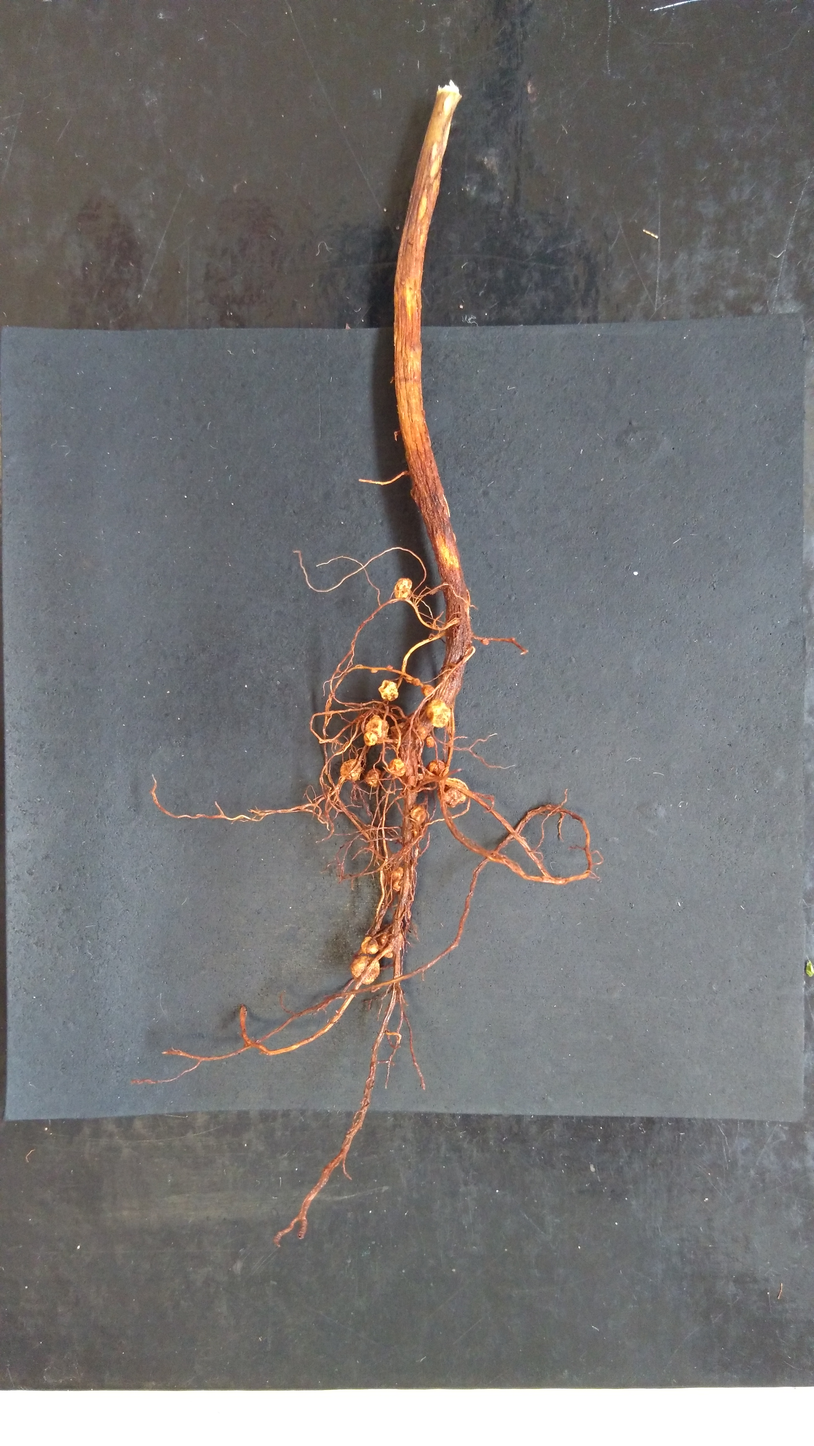nodule: (349, 954, 382, 987), (441, 776, 471, 810), (424, 699, 453, 730), (379, 930, 405, 958), (364, 714, 390, 739), (511, 996, 521, 1061), (338, 757, 363, 782), (377, 679, 400, 702), (393, 576, 413, 600), (386, 757, 407, 778), (390, 864, 405, 893), (408, 803, 427, 824), (361, 935, 380, 956), (365, 767, 383, 788), (426, 759, 447, 777), (362, 731, 380, 747), (424, 734, 438, 751), (423, 683, 436, 697), (410, 677, 421, 687), (370, 668, 379, 674), (386, 665, 394, 669)
